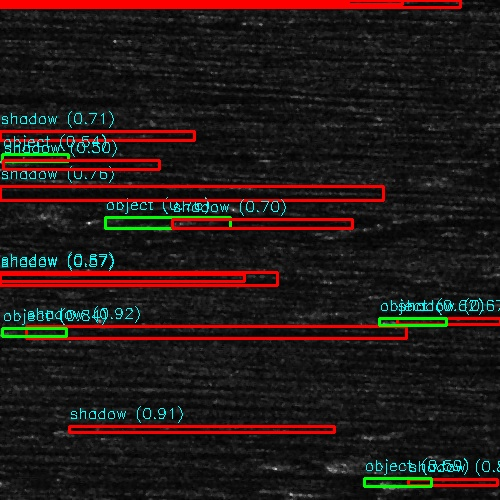rock: (354, 315, 459, 326), (133, 218, 226, 229), (7, 152, 80, 163), (0, 152, 64, 163), (0, 328, 69, 335), (7, 475, 38, 486), (28, 207, 59, 214), (0, 163, 37, 168), (56, 429, 97, 432)
shadow: (44, 152, 300, 163), (0, 273, 255, 284), (28, 152, 283, 163), (0, 0, 368, 7), (17, 328, 354, 335), (180, 218, 355, 229), (0, 24, 220, 31), (0, 131, 187, 138), (407, 315, 498, 326), (23, 475, 107, 486), (17, 163, 187, 168), (77, 429, 333, 432), (0, 164, 147, 169), (44, 207, 129, 214), (0, 95, 30, 102), (0, 148, 41, 153)
